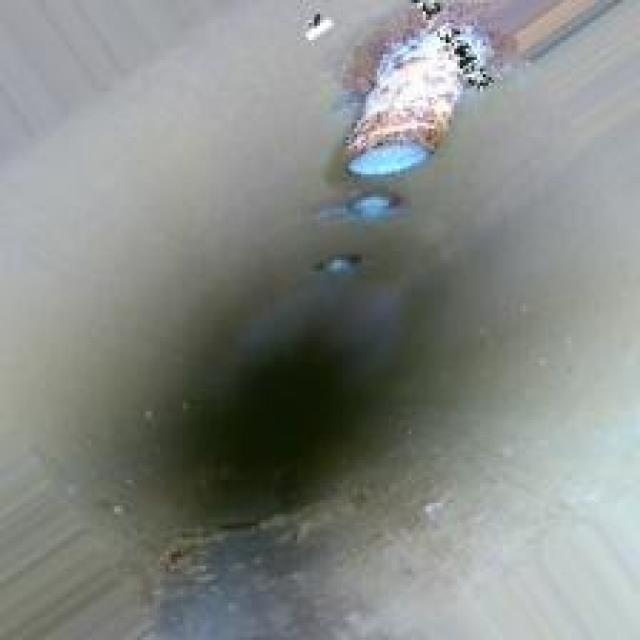ferrule: (346, 29, 466, 180), (331, 186, 420, 226), (303, 240, 366, 277)
